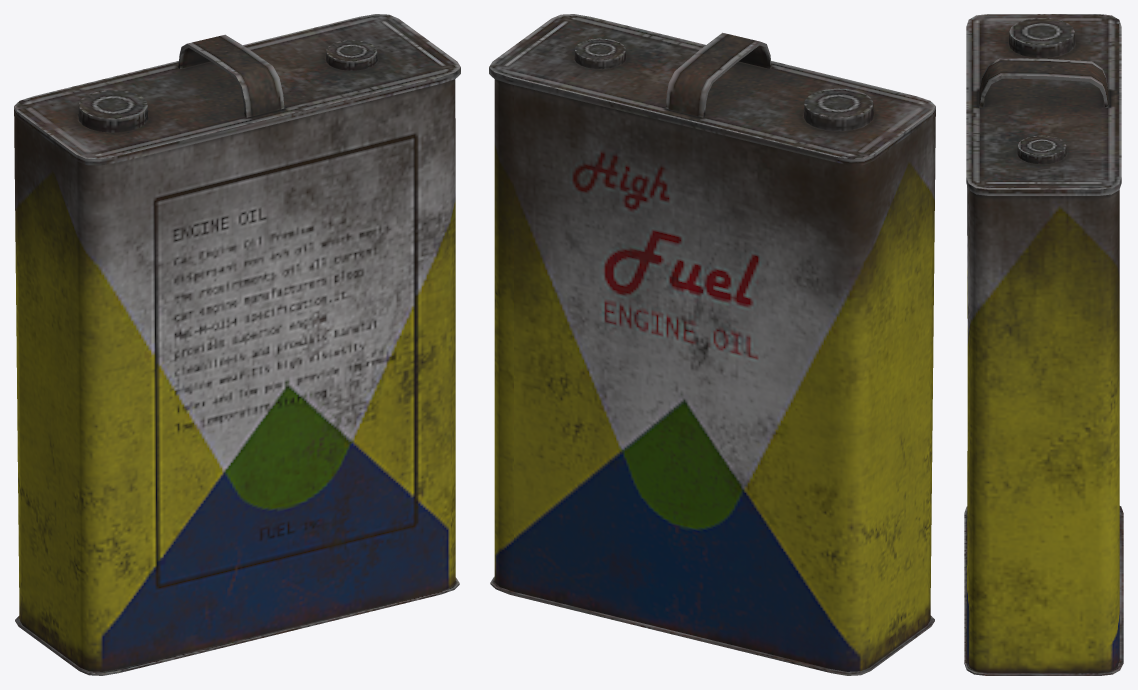
Rendered from OliCan_02_00S.fbx.
3 views of the same model, side by side, from view 1: azimuth 30°, elevation 25°; view 2: azimuth 150°, elevation 25°; view 3: azimuth 270°, elevation 25° (orthographic). The views are drawn at different scales.
Visible parts, largest first — view 1: LODGroup_1_MainMesh_1_SubMesh_1; view 2: LODGroup_1_MainMesh_1_SubMesh_1; view 3: LODGroup_1_MainMesh_1_SubMesh_1.
Boxes of the visible parts, left/top/right/bottom form: LODGroup_1_MainMesh_1_SubMesh_1: left=14, top=14, right=460, bottom=675; LODGroup_1_MainMesh_1_SubMesh_1: left=489, top=14, right=935, bottom=675; LODGroup_1_MainMesh_1_SubMesh_1: left=964, top=14, right=1123, bottom=675.
Size of the model in its own units: 42.56 by 58.71 by 16.34.
